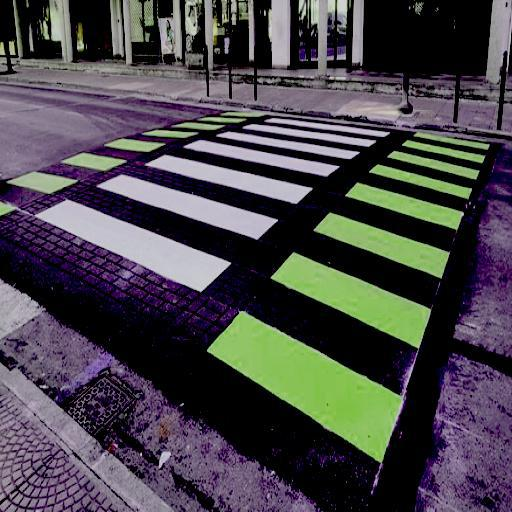crosswalk: (92, 150, 314, 246)
